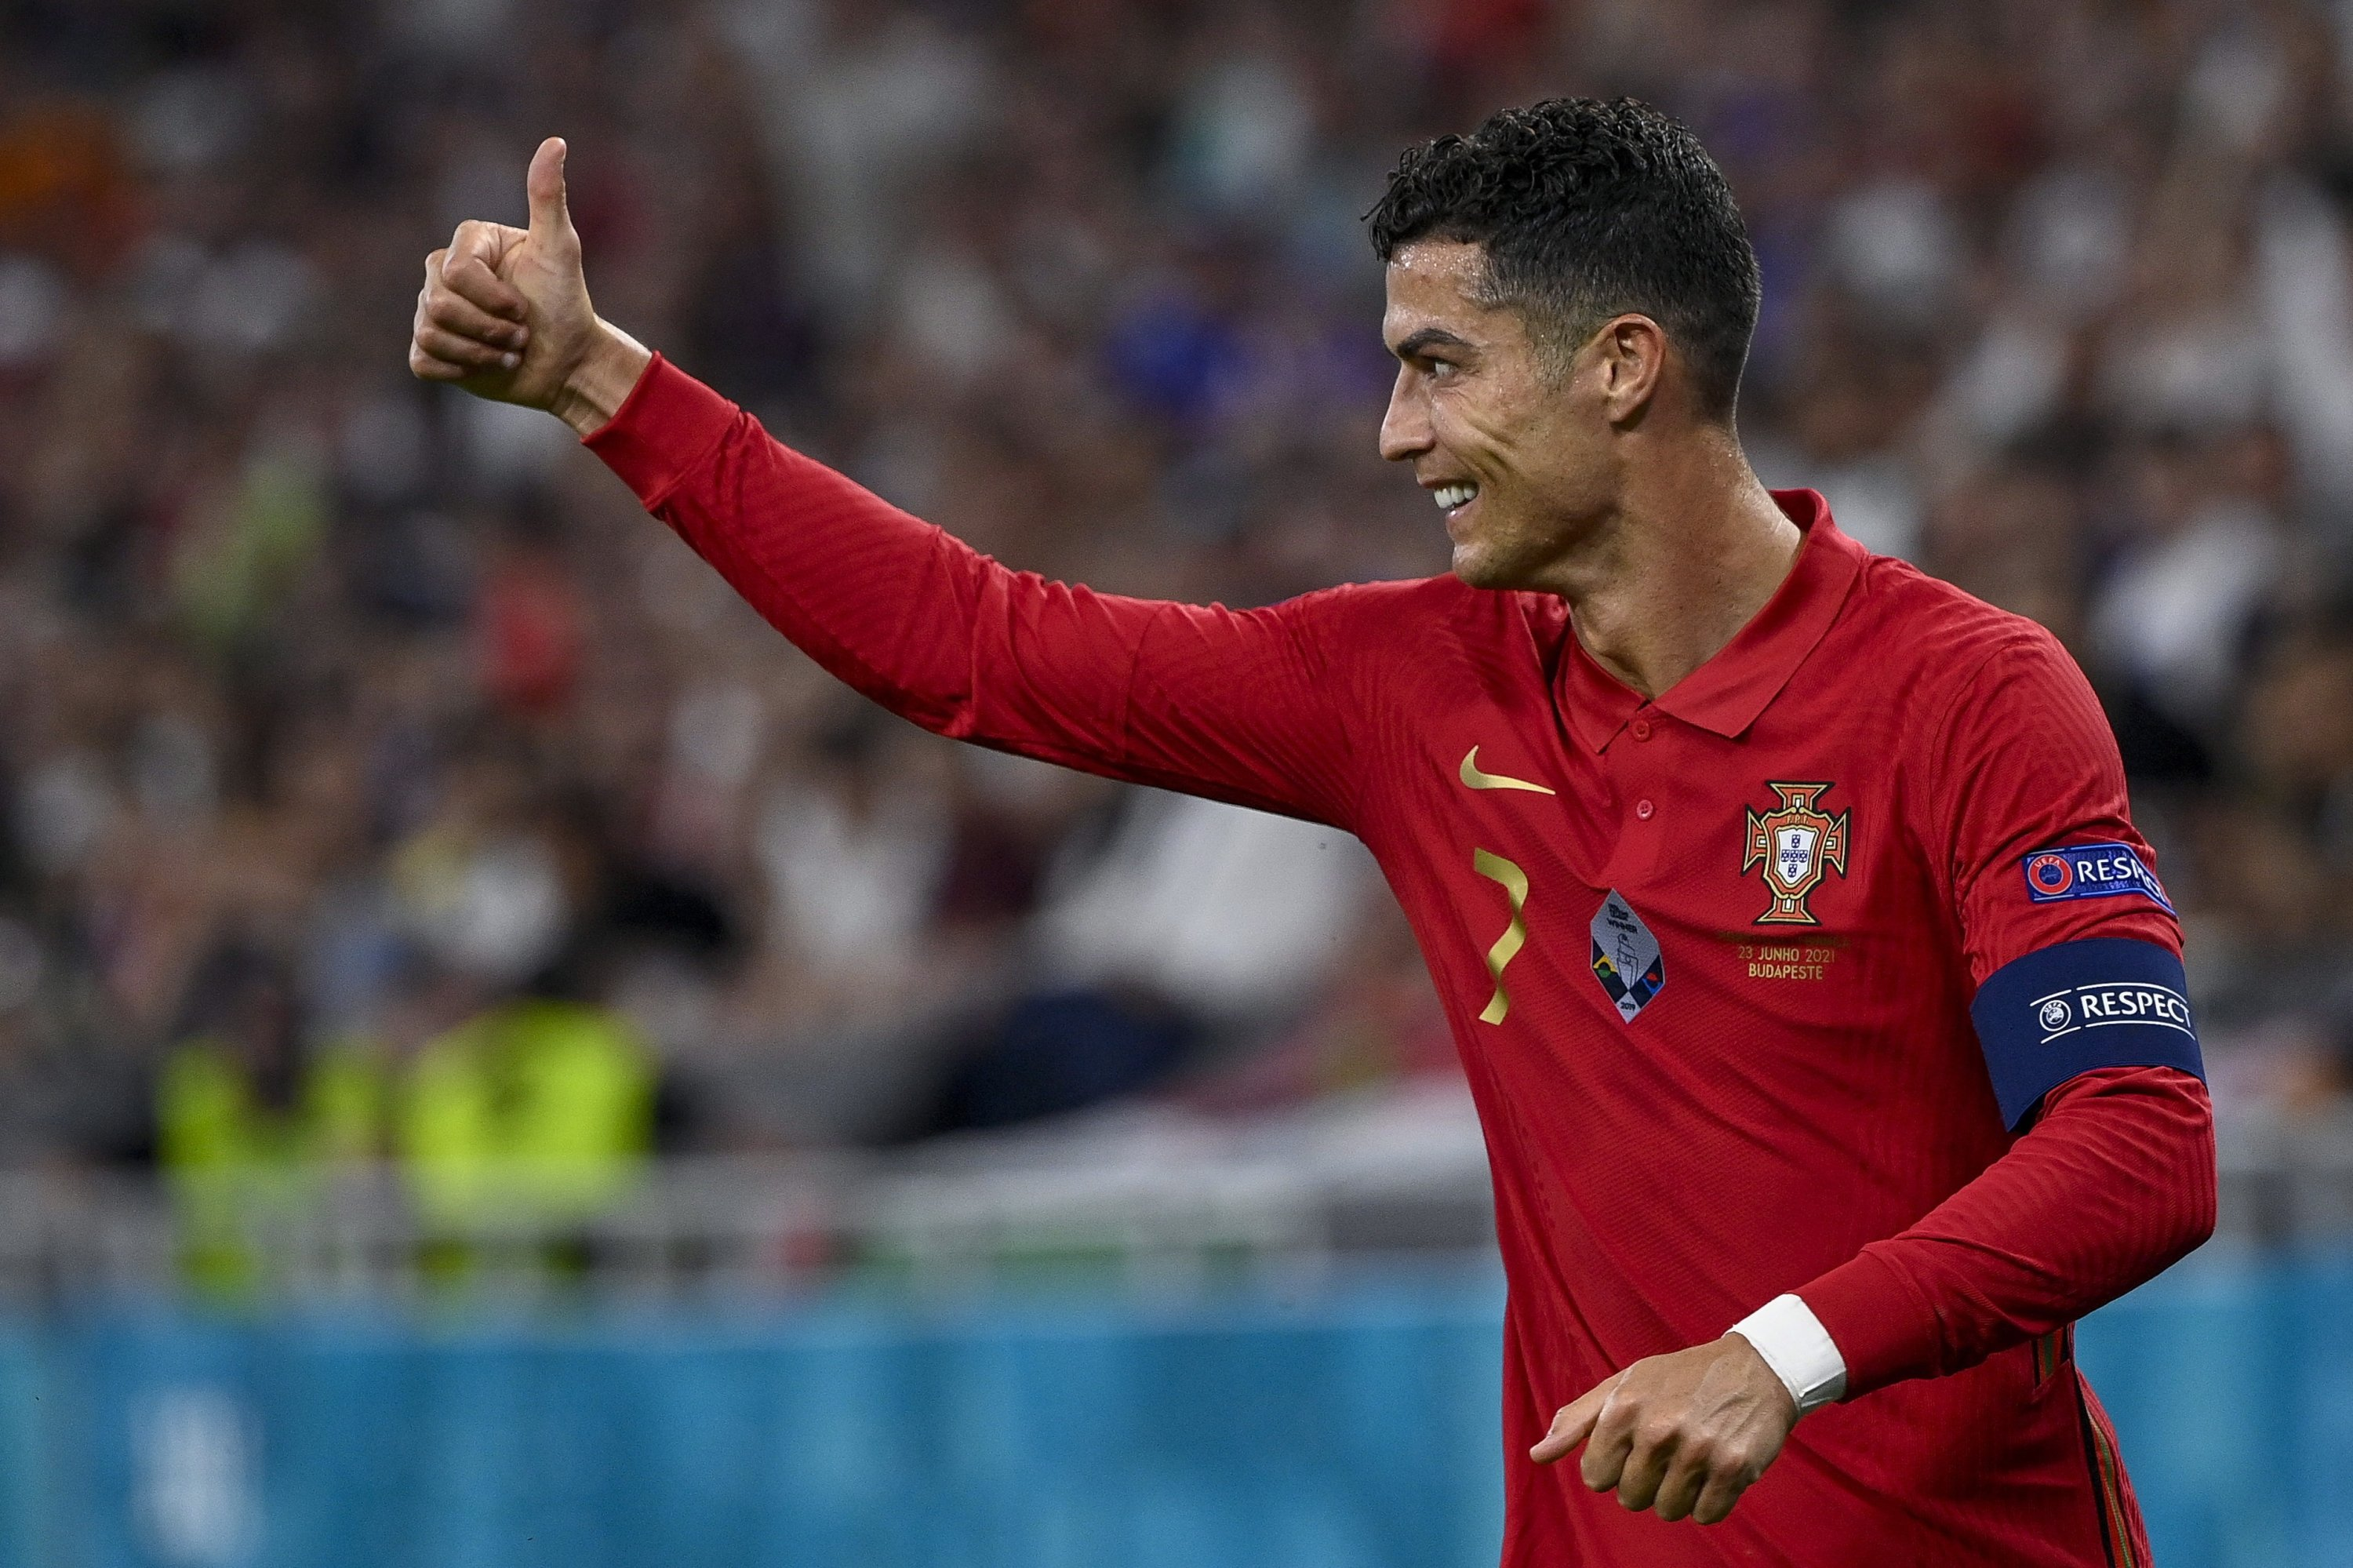NoMask: (1375, 300, 1537, 595)
